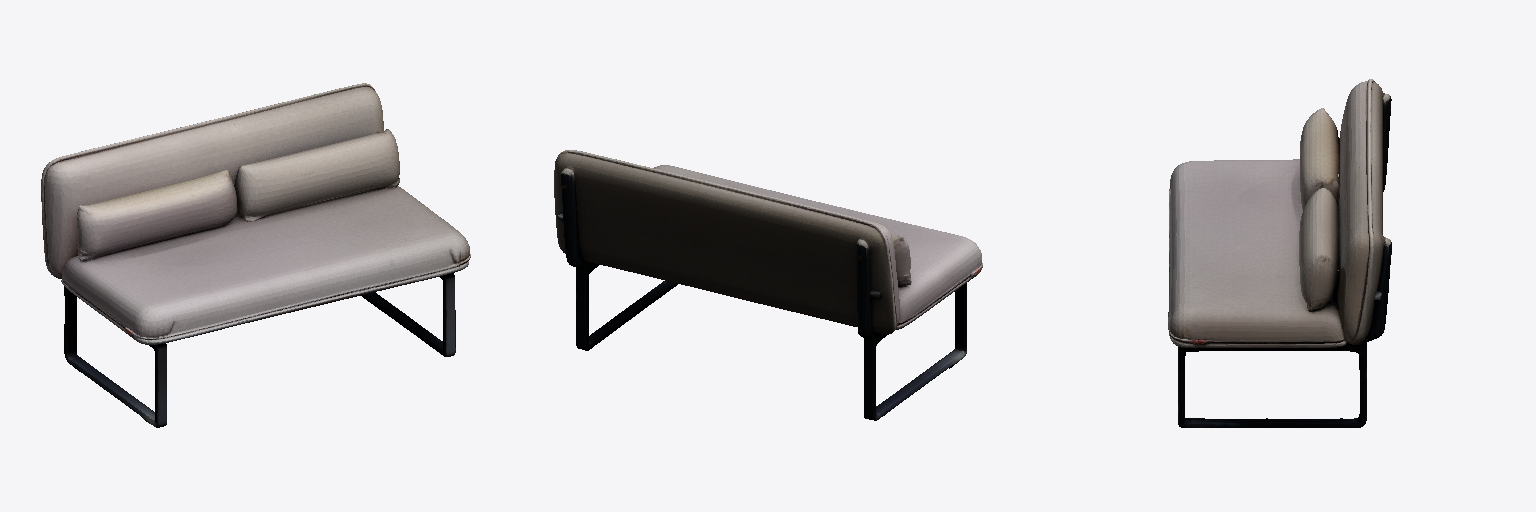
The picture shows the model from 3 angles: view 1: azimuth 30°, elevation 25°; view 2: azimuth 150°, elevation 25°; view 3: azimuth 270°, elevation 25°; orthographic projection.
Visible parts, largest first — view 1: geometry_0; view 2: geometry_0; view 3: geometry_0.
Boxes of the visible parts, x1=… form: geometry_0: x1=41, y1=83, x2=470, y2=427; geometry_0: x1=554, y1=150, x2=982, y2=420; geometry_0: x1=1168, y1=79, x2=1391, y2=427.
Bounding box in the file's own units: 1 × 0.5856 × 0.5754.
Materials: 1 (1 with a texture image).